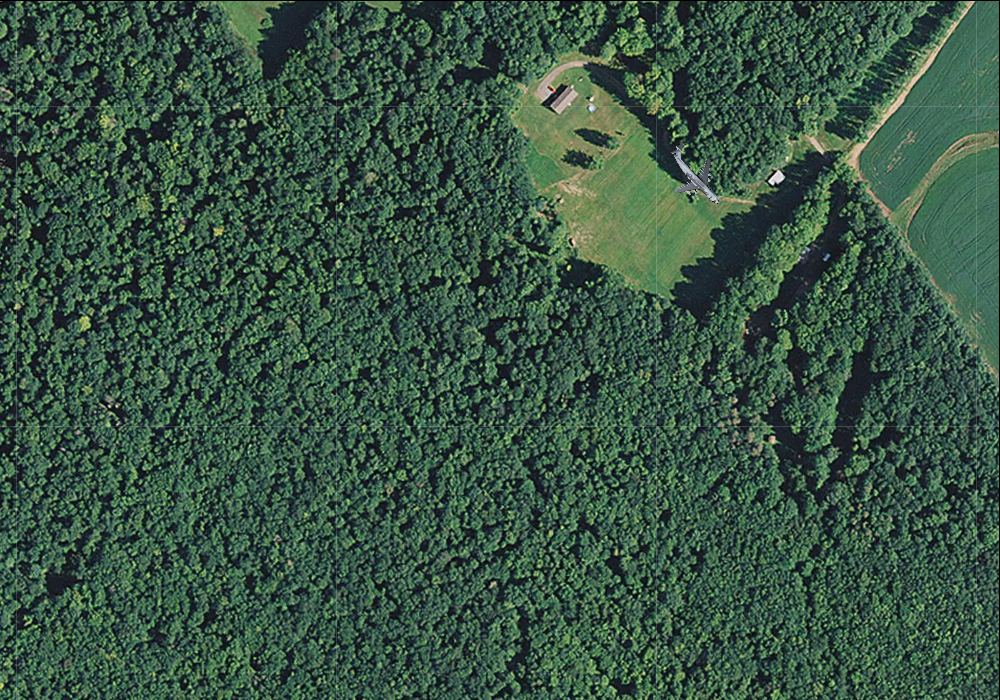plane: (649, 127, 743, 222)
